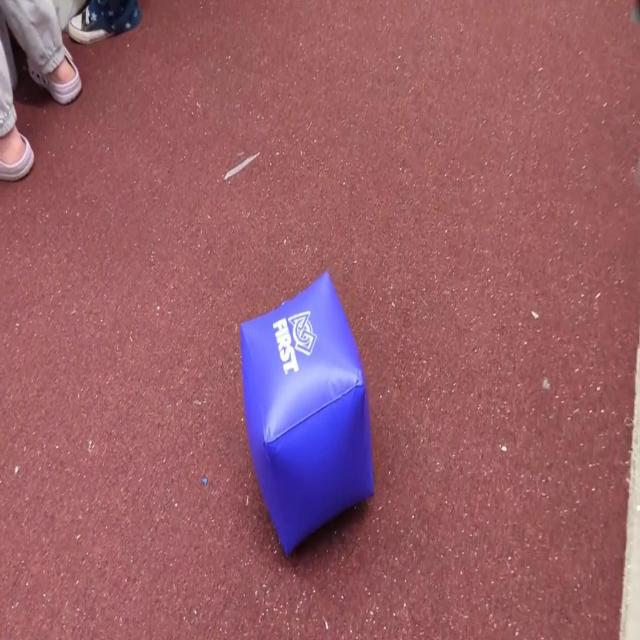frc_cube: (239, 274, 373, 562)
